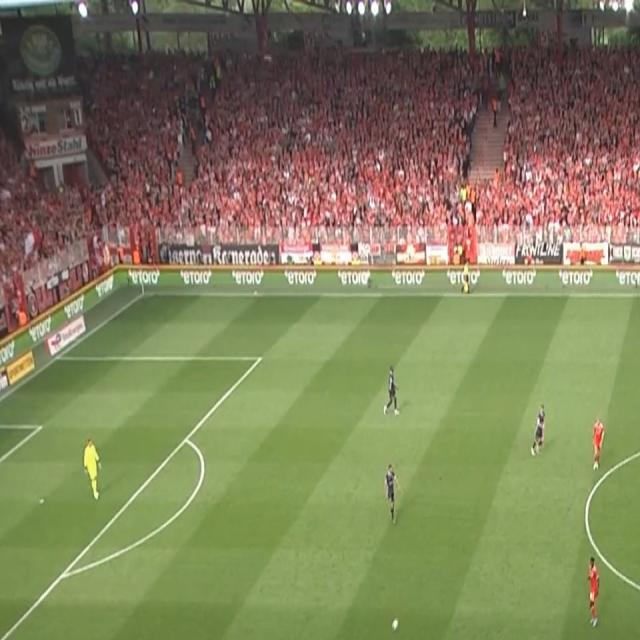ball: (390, 616, 399, 632)
